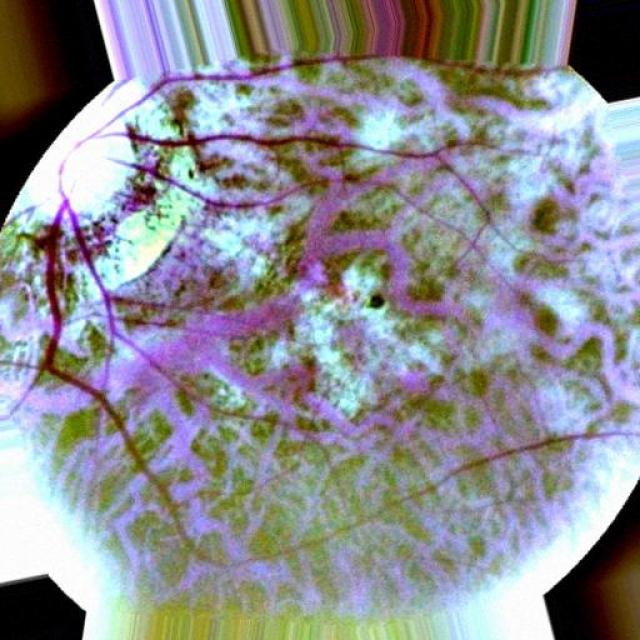Nerves: (41, 161, 115, 375), (68, 376, 108, 409)
Optic Disk: (98, 188, 196, 288), (61, 138, 132, 214), (61, 80, 145, 139), (26, 158, 59, 214)
